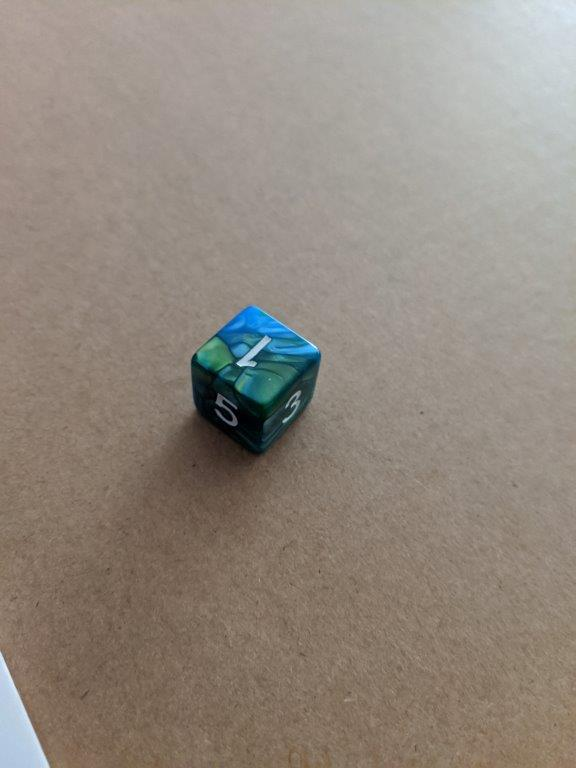d6-1: (190, 303, 324, 454)
